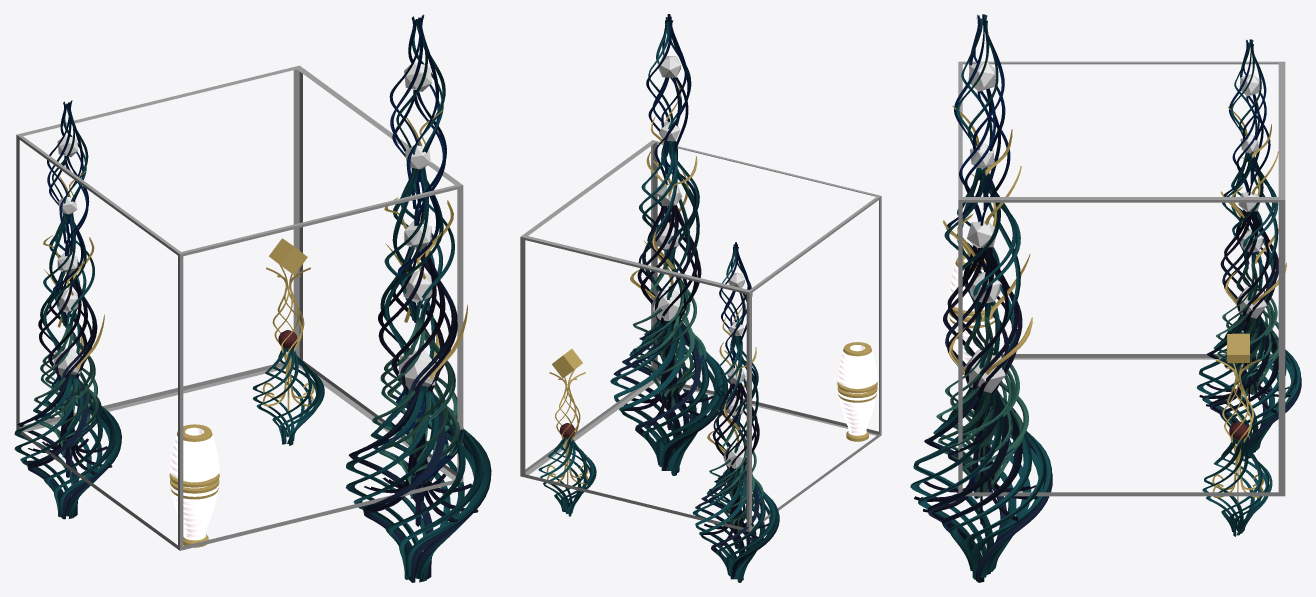
File: StaticEnvironment.fbx
3 views of the same model, side by side, from view 1: azimuth 30°, elevation 25°; view 2: azimuth 150°, elevation 25°; view 3: azimuth 270°, elevation 25° (orthographic). The views are drawn at different scales.
Visible parts, largest first — view 1: SpaceBox:VirtualEnvironment_0002:pCube1, Treev1_0001:AguamarinaOscura, Tree2_V1:Tree_V1_0001:Treev1_0001:AguamarinaOscura, Treev1_0001:DarkBlue2, Podium:Vase32:Vase_32, Treev1_0001:Blue, Treev1_0001:DarkBlue, Treev1_0001:LowerLightGreen, Treev1_0001:SecondDarkGreen, Tree2_V1:Tree_V1_0001:Treev1_0001:DarkBlue2, Podium_v2:AguamarinaOscura, Tree2_V1:Tree_V1_0001:Treev1_0001:LowerLightGreen (+9 smaller); view 2: SpaceBox:VirtualEnvironment_0002:pCube1, Treev1_0001:AguamarinaOscura, Tree2_V1:Tree_V1_0001:Treev1_0001:AguamarinaOscura, Podium:Vase32:Vase_32, Treev1_0001:DarkBlue2, Treev1_0001:SecondDarkGreen, Treev1_0001:LowerLightGreen, Treev1_0001:Blue, Treev1_0001:DarkBlue, Podium_v2:AguamarinaOscura, Tree2_V1:Tree_V1_0001:Treev1_0001:DarkBlue2, Tree2_V1:Tree_V1_0001:Treev1_0001:SecondDarkGreen (+9 smaller); view 3: SpaceBox:VirtualEnvironment_0002:pCube1, Treev1_0001:AguamarinaOscura, Treev1_0001:DarkBlue2, Treev1_0001:DarkBlue, Treev1_0001:LowerLightGreen, Tree2_V1:Tree_V1_0001:Treev1_0001:AguamarinaOscura, Treev1_0001:SecondDarkGreen, Treev1_0001:Blue, Tree2_V1:Tree_V1_0001:Treev1_0001:DarkBlue2, Podium_v2:AguamarinaOscura, Tree2_V1:Tree_V1_0001:Treev1_0001:DarkBlue, Tree2_V1:Tree_V1_0001:Treev1_0001:LowerLightGreen (+9 smaller).
Boxes of the visible parts, <box> form: SpaceBox:VirtualEnvironment_0002:pCube1: <box>16,65,463,550</box>; Treev1_0001:AguamarinaOscura: <box>345,16,491,582</box>; Tree2_V1:Tree_V1_0001:Treev1_0001:AguamarinaOscura: <box>14,101,121,518</box>; Treev1_0001:DarkBlue2: <box>364,245,478,526</box>; Podium:Vase32:Vase_32: <box>169,424,219,547</box>; Treev1_0001:Blue: <box>373,14,462,501</box>; Treev1_0001:DarkBlue: <box>348,251,490,582</box>; Treev1_0001:LowerLightGreen: <box>372,317,463,498</box>; Treev1_0001:SecondDarkGreen: <box>380,167,454,359</box>; Tree2_V1:Tree_V1_0001:Treev1_0001:DarkBlue2: <box>28,271,112,477</box>; Podium_v2:AguamarinaOscura: <box>252,346,324,445</box>; Tree2_V1:Tree_V1_0001:Treev1_0001:LowerLightGreen: <box>34,324,101,458</box>; SpaceBox:VirtualEnvironment_0002:pCube1: <box>520,140,881,532</box>; Treev1_0001:AguamarinaOscura: <box>610,17,727,475</box>; Tree2_V1:Tree_V1_0001:Treev1_0001:AguamarinaOscura: <box>692,244,779,582</box>; Podium:Vase32:Vase_32: <box>837,342,877,441</box>; Treev1_0001:DarkBlue2: <box>619,205,712,430</box>; Treev1_0001:SecondDarkGreen: <box>639,141,699,320</box>; Treev1_0001:LowerLightGreen: <box>632,260,706,407</box>; Treev1_0001:Blue: <box>632,14,703,404</box>; Treev1_0001:DarkBlue: <box>614,227,728,472</box>; Podium_v2:AguamarinaOscura: <box>538,437,596,516</box>; Tree2_V1:Tree_V1_0001:Treev1_0001:DarkBlue2: <box>699,383,768,548</box>; Tree2_V1:Tree_V1_0001:Treev1_0001:SecondDarkGreen: <box>713,335,758,467</box>; SpaceBox:VirtualEnvironment_0002:pCube1: <box>958,61,1285,496</box>; Treev1_0001:AguamarinaOscura: <box>910,14,1051,579</box>; Treev1_0001:DarkBlue2: <box>914,245,1037,525</box>; Treev1_0001:DarkBlue: <box>924,247,1052,582</box>; Treev1_0001:LowerLightGreen: <box>936,316,1028,498</box>; Tree2_V1:Tree_V1_0001:Treev1_0001:AguamarinaOscura: <box>1197,39,1300,456</box>; Treev1_0001:SecondDarkGreen: <box>944,167,1020,430</box>; Treev1_0001:Blue: <box>946,14,1019,498</box>; Tree2_V1:Tree_V1_0001:Treev1_0001:DarkBlue2: <box>1199,210,1290,415</box>; Podium_v2:AguamarinaOscura: <box>1202,435,1272,536</box>; Tree2_V1:Tree_V1_0001:Treev1_0001:DarkBlue: <box>1207,211,1301,458</box>; Tree2_V1:Tree_V1_0001:Treev1_0001:LowerLightGreen: <box>1216,262,1278,395</box>.
Size of the model in its own units: 3.46 by 5.71 by 3.59.
